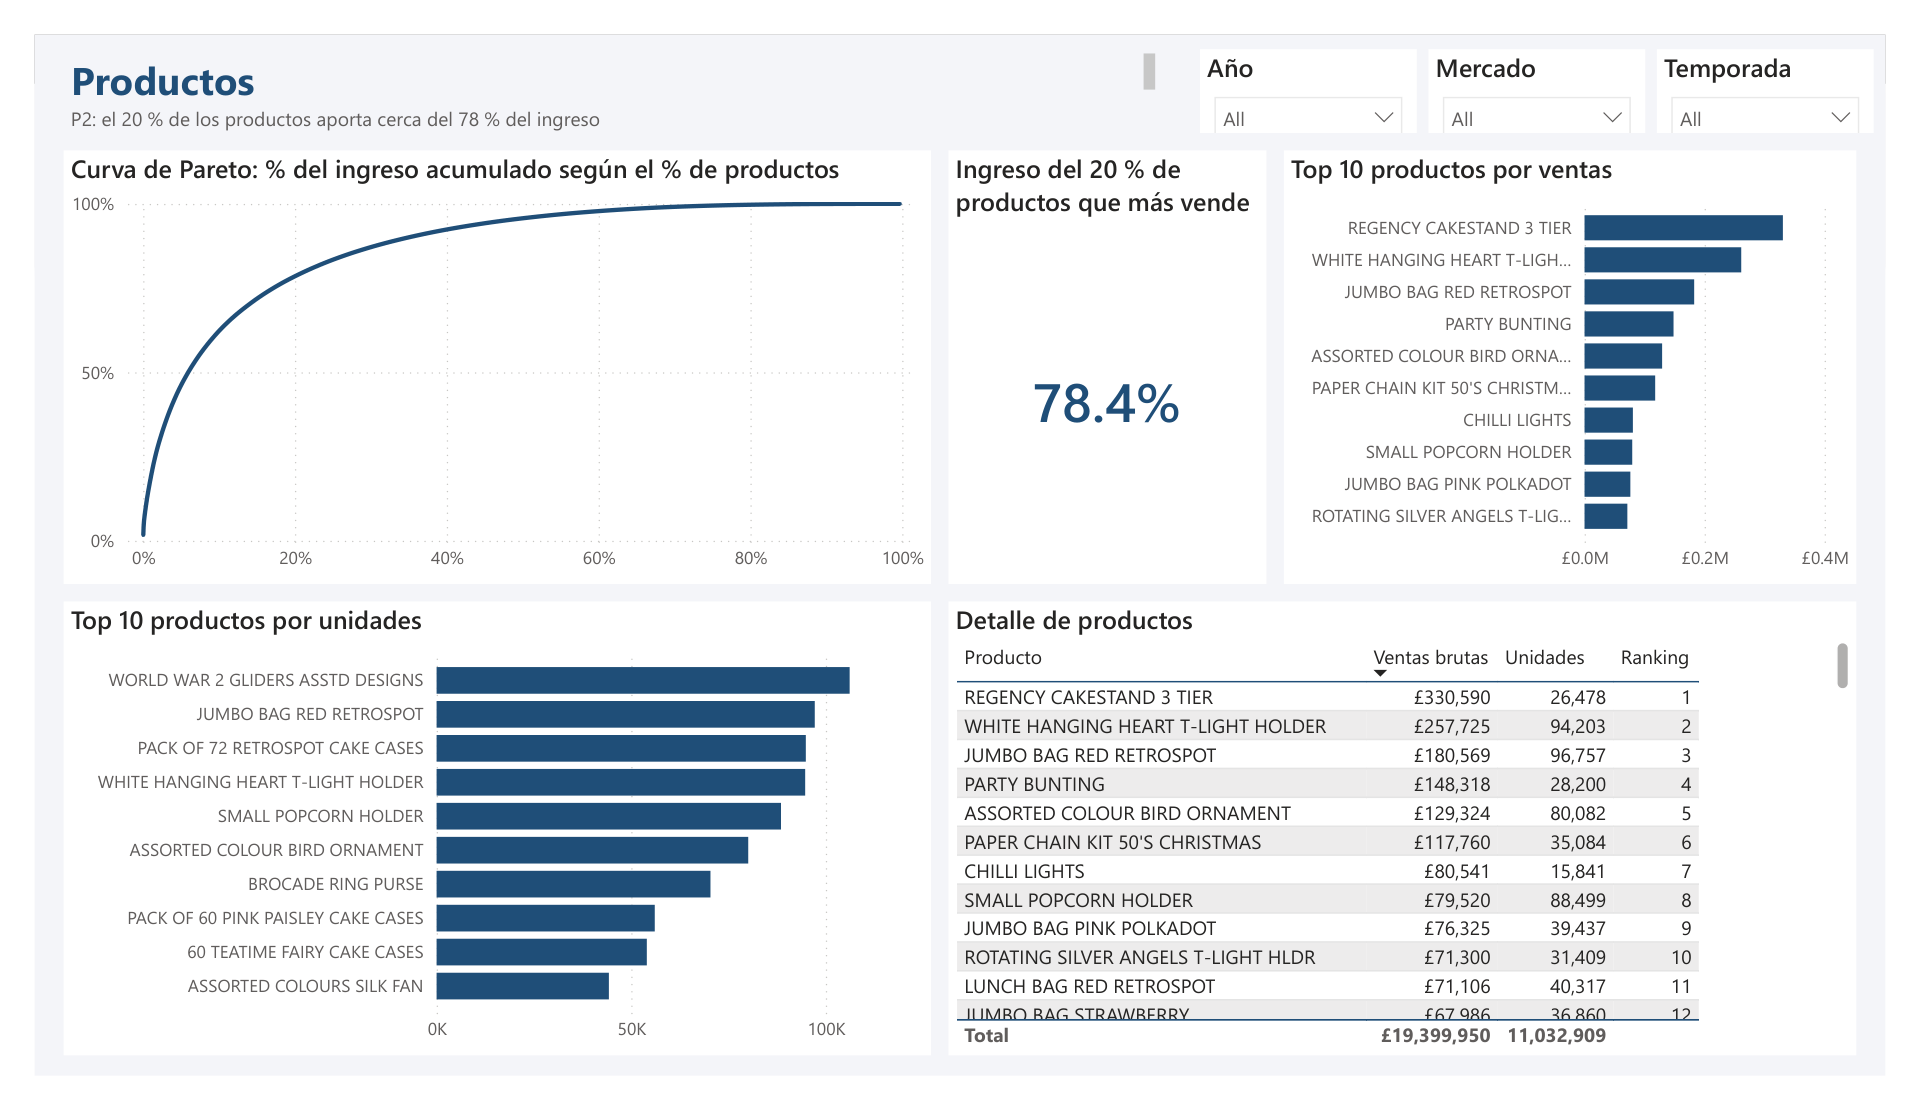

The page's visual inventory and layout, read from the dashboard file:
{"tool":"powerbi","page":{"name":"Productos","canvas":[1280,720],"ordinal":4},"visuals":[{"type":"textbox","box":[20,8,760,40],"z":1000},{"type":"textbox","box":[20,44,760,28],"z":2000},{"type":"slicer","title":"Año","fields":{"Values":["dim_fecha.anio"]},"box":[806,10,150,58],"z":3000},{"type":"slicer","title":"Mercado","fields":{"Values":["dim_pais.pais_grupo"]},"box":[964,10,150,58],"z":4000},{"type":"slicer","title":"Temporada","fields":{"Values":["dim_fecha.temporada"]},"box":[1122,10,150,58],"z":5000},{"type":"lineChart","title":"Curva de Pareto: % del ingreso acumulado según el % de productos","fields":{"Category":["dim_producto.pct_productos"],"Y":["_Medidas.Pareto Ingreso Acumulado"]},"box":[20,80,600,300],"z":6000},{"type":"card","title":"Ingreso del 20 % de productos que más vende","fields":{"Values":["_Medidas.Concentración Top 20 Productos"]},"box":[632,80,220,300],"z":7000},{"type":"clusteredBarChart","title":"Top 10 productos por ventas","fields":{"Category":["dim_producto.descripcion"],"Y":["_Medidas.Ventas Top 10 Productos"]},"box":[864,80,396,300],"z":8000},{"type":"clusteredBarChart","title":"Top 10 productos por unidades","fields":{"Category":["dim_producto.descripcion"],"Y":["_Medidas.Unidades Top 10 Productos"]},"box":[20,392,600,314],"z":9000},{"type":"tableEx","title":"Detalle de productos","fields":{"Values":["dim_producto.descripcion","_Medidas.Ventas Brutas","_Medidas.Unidades Vendidas","dim_producto.ranking_producto"]},"box":[632,392,628,314],"z":10000}]}

Visuals, with their boxes in screenshot pixels (x1, y1, x2, y2), scaled from the page's 1280x720 canvas onto the 1920x1111 screenshot:
textbox: <bbox>30, 12, 1170, 74</bbox>
textbox: <bbox>30, 68, 1170, 111</bbox>
"Año" slicer: <bbox>1209, 15, 1434, 105</bbox>
"Mercado" slicer: <bbox>1446, 15, 1671, 105</bbox>
"Temporada" slicer: <bbox>1683, 15, 1908, 105</bbox>
"Curva de Pareto: % del ingreso acumulado según el % de productos" lineChart: <bbox>30, 123, 930, 586</bbox>
"Ingreso del 20 % de productos que más vende" card: <bbox>948, 123, 1278, 586</bbox>
"Top 10 productos por ventas" clusteredBarChart: <bbox>1296, 123, 1890, 586</bbox>
"Top 10 productos por unidades" clusteredBarChart: <bbox>30, 605, 930, 1089</bbox>
"Detalle de productos" tableEx: <bbox>948, 605, 1890, 1089</bbox>
